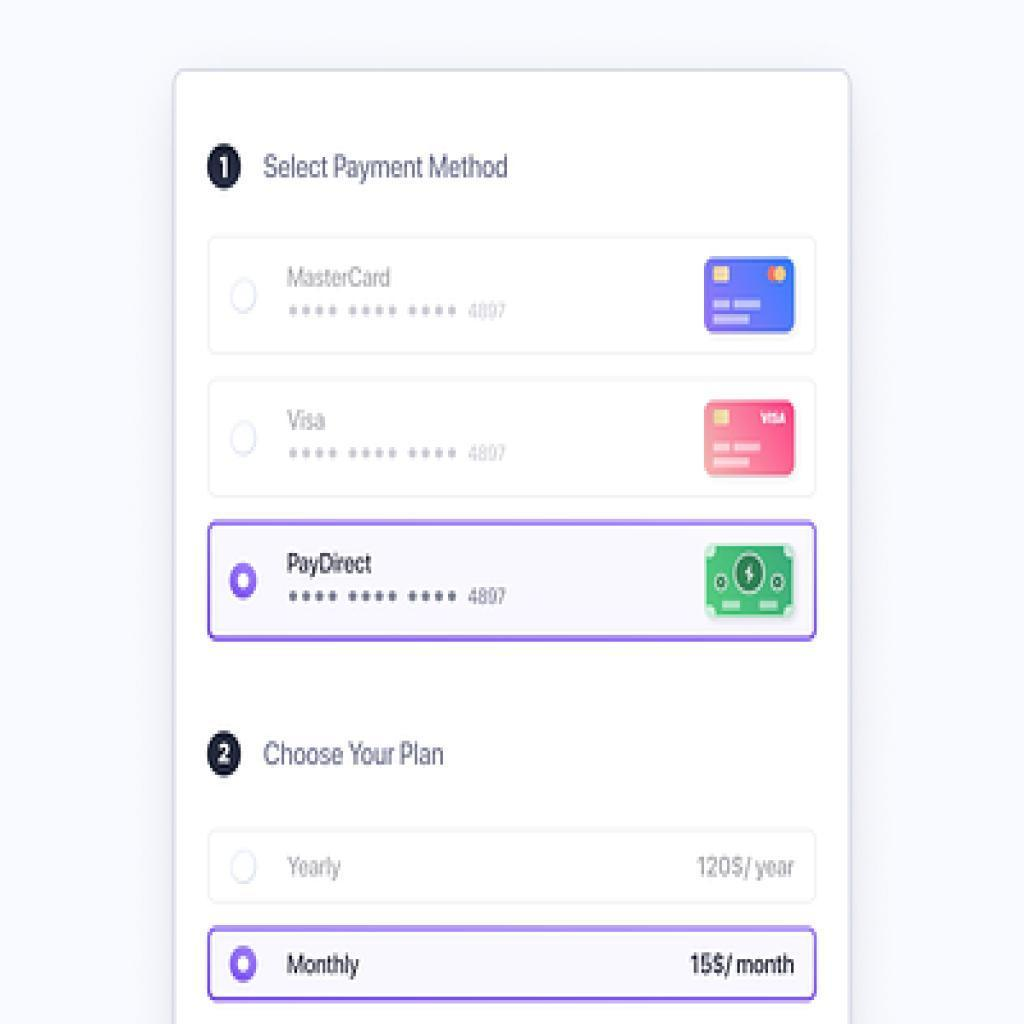label: (284, 549, 508, 621), (285, 265, 522, 329), (285, 405, 513, 471), (257, 144, 515, 186), (262, 740, 456, 775), (687, 946, 805, 984), (699, 851, 805, 893), (284, 945, 368, 977), (284, 854, 358, 889)
radio: (226, 940, 259, 985), (228, 281, 264, 319), (230, 422, 261, 463), (231, 559, 258, 604), (230, 846, 258, 888)
